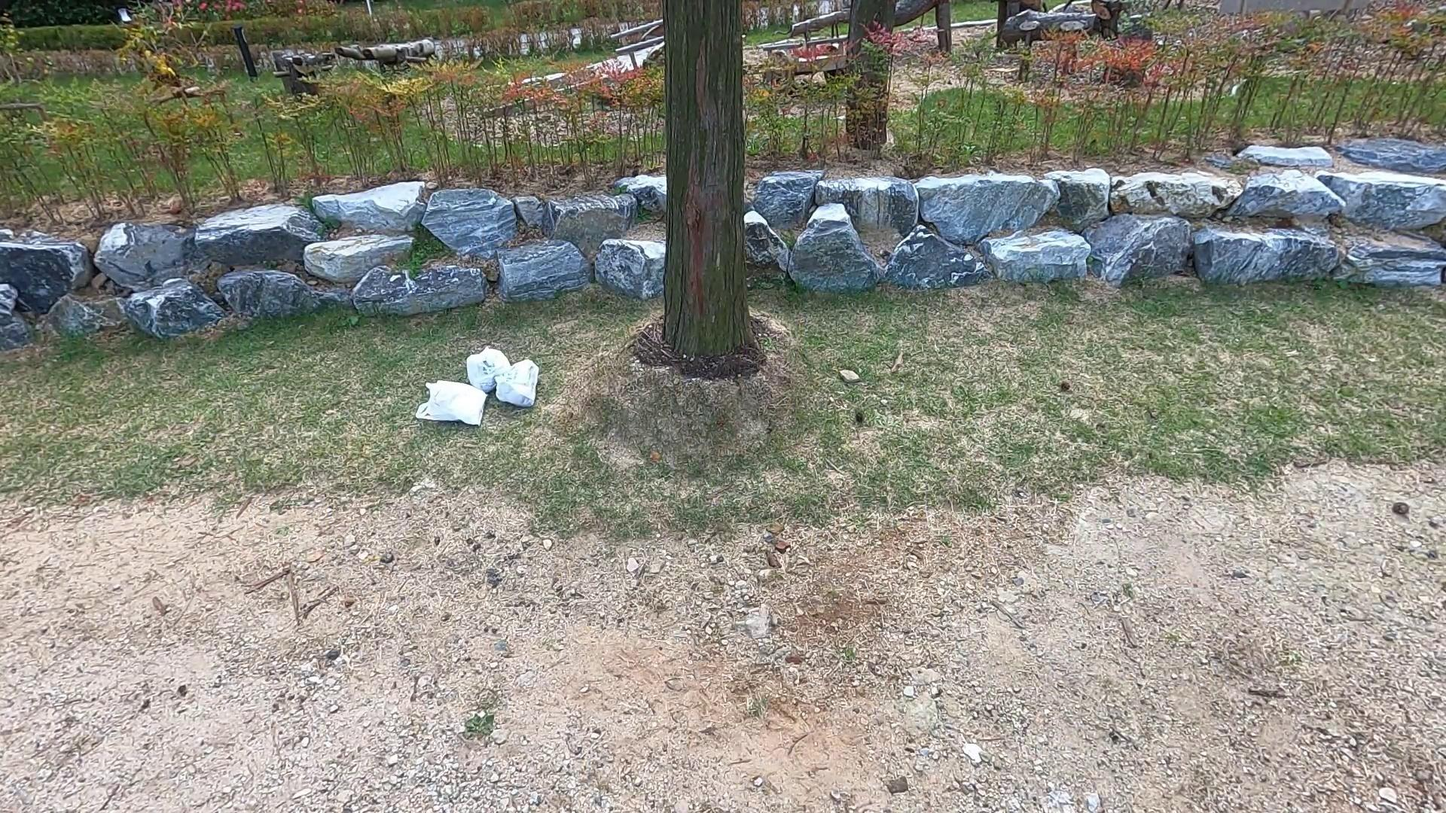trash: (413, 377, 490, 428), (462, 344, 508, 394), (493, 358, 538, 407)
